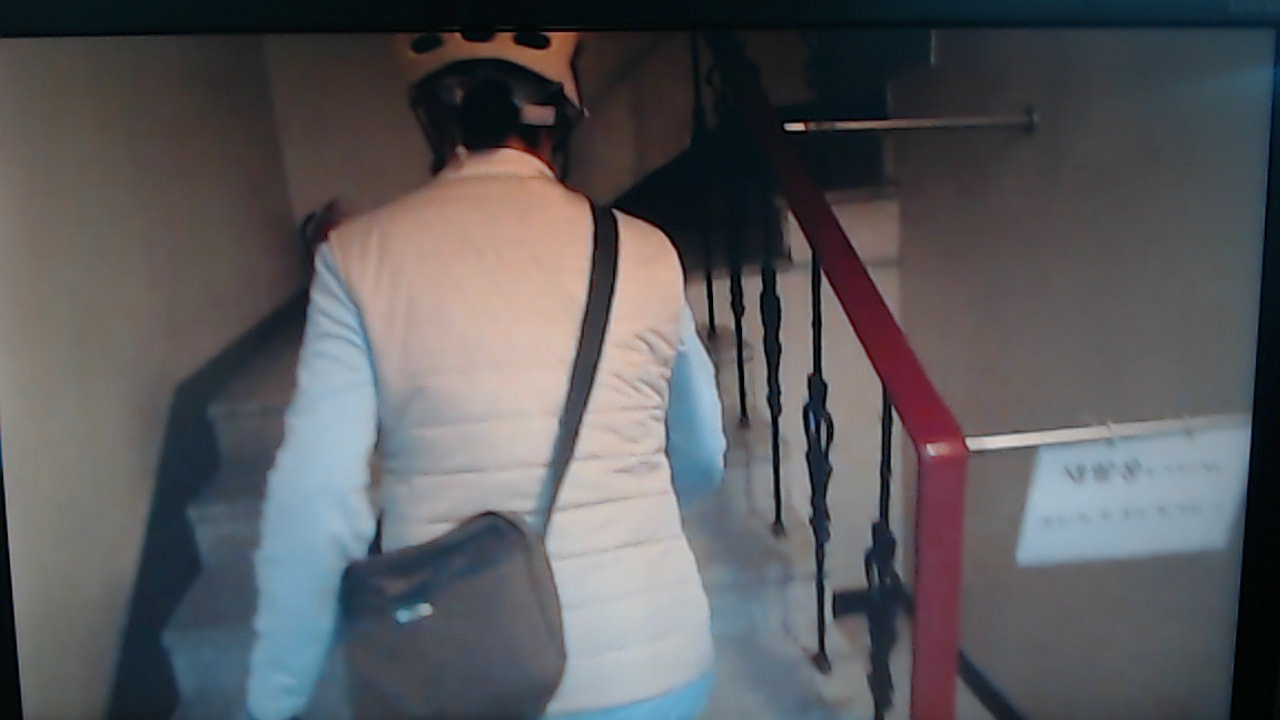Yakurut: (235, 36, 791, 720)
